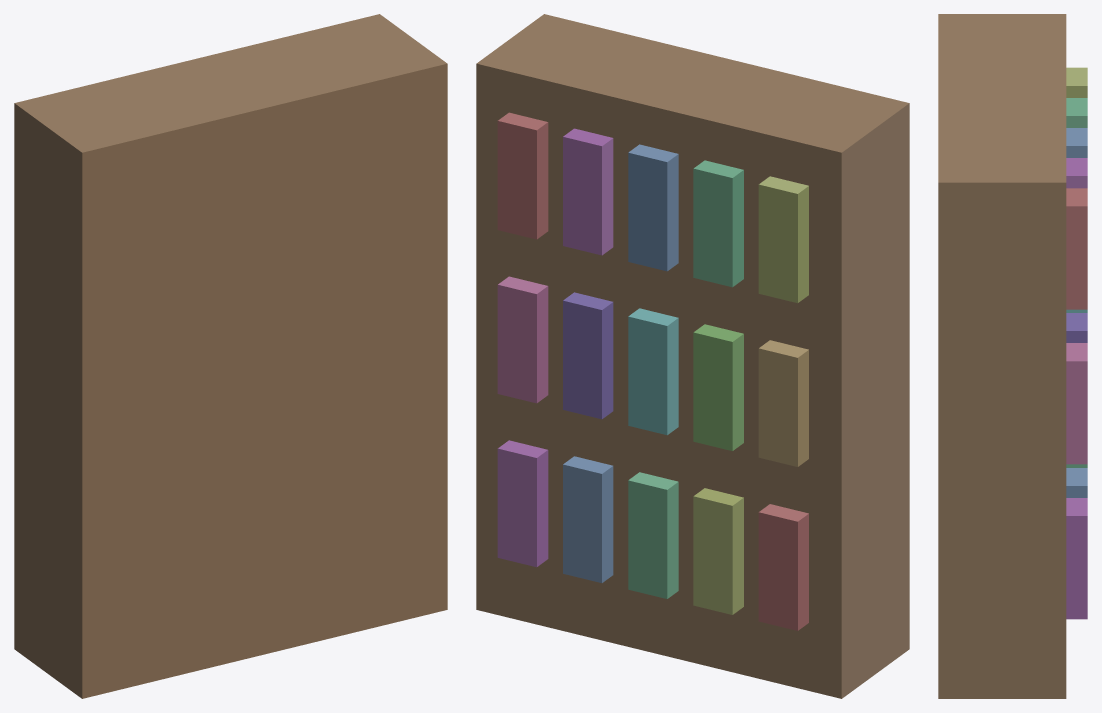
The model's file is furn_shelf.glb.
3 views of the same model, side by side, from view 1: azimuth 30°, elevation 25°; view 2: azimuth 150°, elevation 25°; view 3: azimuth 270°, elevation 25° (orthographic). The views are drawn at different scales.
Parts seen in each view (by area): view 1: furn_shelf2; view 2: furn_shelf2; view 3: furn_shelf2.
Part boxes in pixels (x1,y1,x2,y2): furn_shelf2: (14,14,447,698); furn_shelf2: (476,14,909,698); furn_shelf2: (938,14,1087,698).
Size of the model in its own units: 1.4 by 2 by 0.525.
